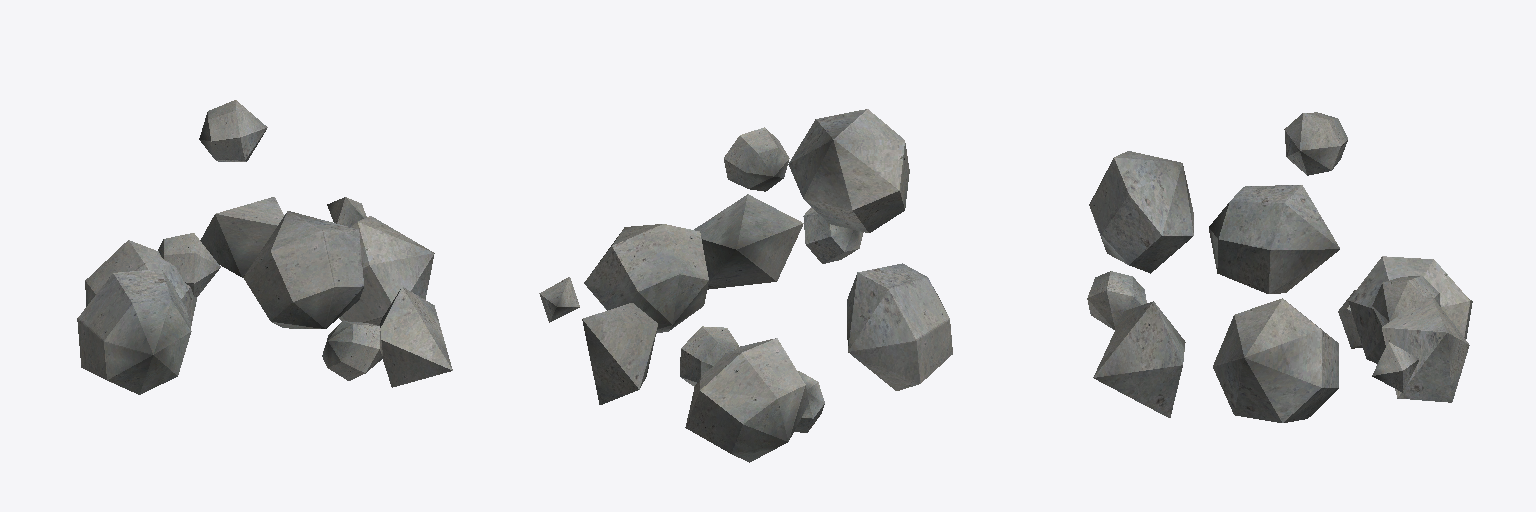
3 views of the same model, side by side, from view 1: azimuth 30°, elevation 25°; view 2: azimuth 150°, elevation 25°; view 3: azimuth 270°, elevation 25° (orthographic).
Visible parts, largest first — view 1: Sphere011; view 2: Sphere011; view 3: Sphere011.
Part boxes in pixels (bbox=[...]): Sphere011: bbox=[77, 100, 452, 394]; Sphere011: bbox=[539, 109, 952, 462]; Sphere011: bbox=[1087, 112, 1472, 422].
Bounding box in the file's own units: 146 × 116 × 146.
1 materials, 1 textured.